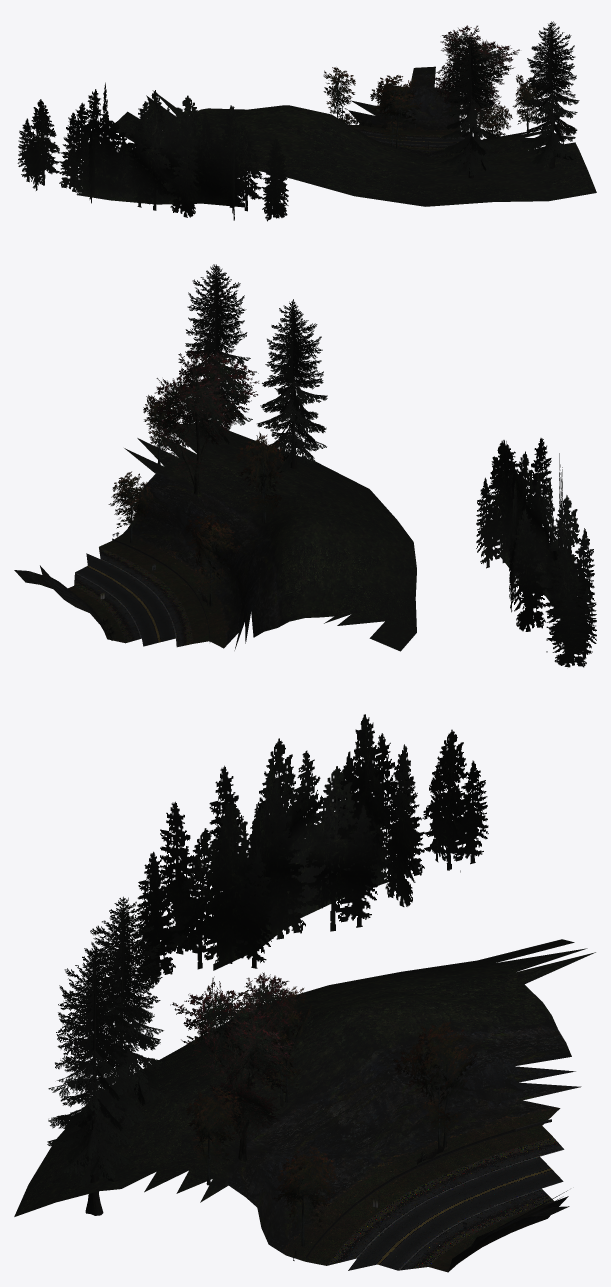
The model's file is cell_6_-14.gltf.
The picture shows the model from 3 angles, top to bottom: view 1: azimuth 30°, elevation 25°; view 2: azimuth 150°, elevation 25°; view 3: azimuth 270°, elevation 25°; orthographic projection. The views are drawn at different scales.
Visible parts, largest first — view 1: cell_6_-14; view 2: cell_6_-14; view 3: cell_6_-14.
Part boxes in pixels (bbox=[...]): cell_6_-14: bbox=[17, 21, 596, 221]; cell_6_-14: bbox=[14, 264, 596, 667]; cell_6_-14: bbox=[14, 714, 595, 1272].
Bounding box in the file's own units: 156 × 62.22 × 105.
24 materials, 24 textured.
